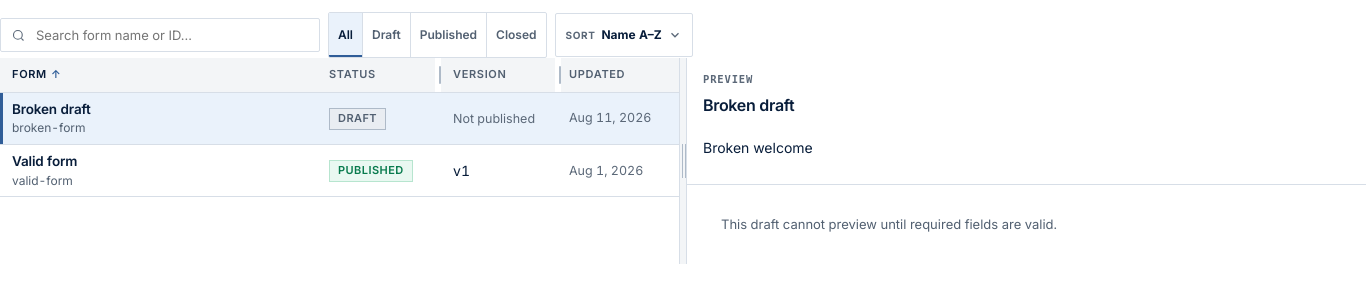
Test: FormsWorkspace › keeps the invalid-draft empty state scoped to the selected form
Expected: the heading with test id "forms-preview-name" reads "Broken draft", 703,95 -> 794,115
Expected: the text "This draft cannot preview until required fields are valid." is shown, 721,216 -> 1057,232
Click the row "Valid form" at (340,171), box 0,144 -> 679,197
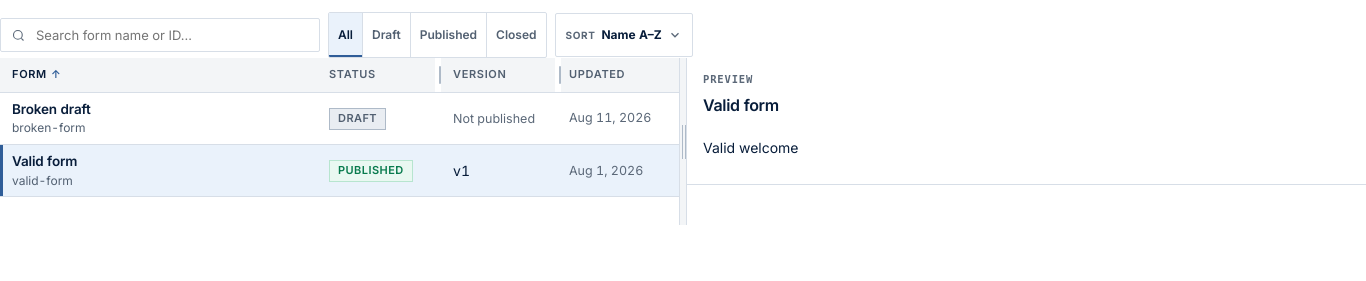
Result: the heading with test id "forms-preview-name" reads "Valid form" at 703,95 -> 779,115
Result: the text with test id "forms-preview-invalid" is gone
Result: the text with test id "forms-preview-welcome" reads "Valid welcome" at 703,139 -> 798,156
Click the row "Broken draft" at (340,118), box 0,92 -> 679,144
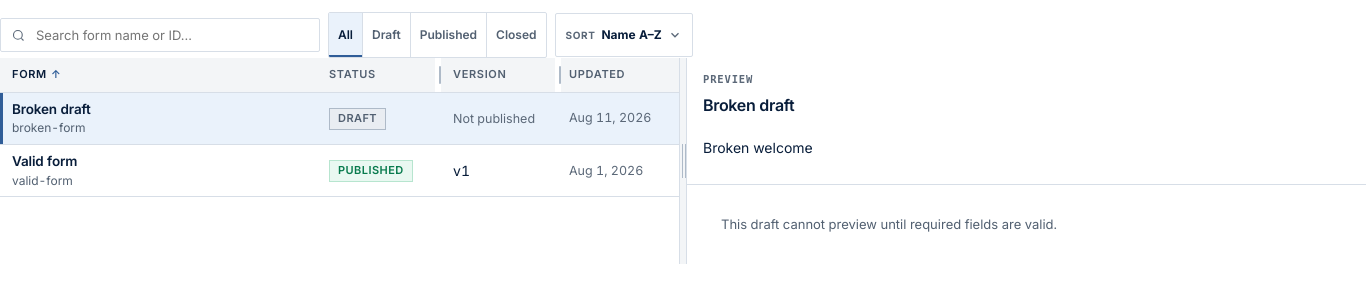
Result: the text "This draft cannot preview until required fields are valid." is shown at 721,216 -> 1057,232
Result: the heading with test id "forms-preview-name" reads "Broken draft" at 703,95 -> 794,115
